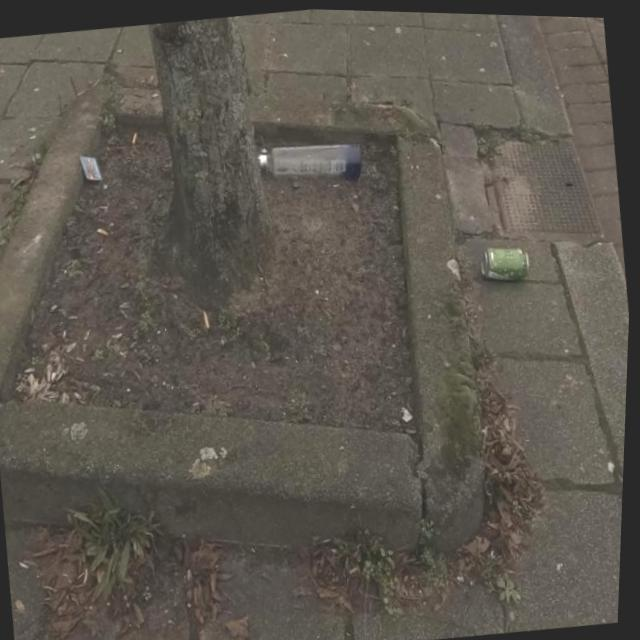Can-Metal: (474, 227, 539, 292)
